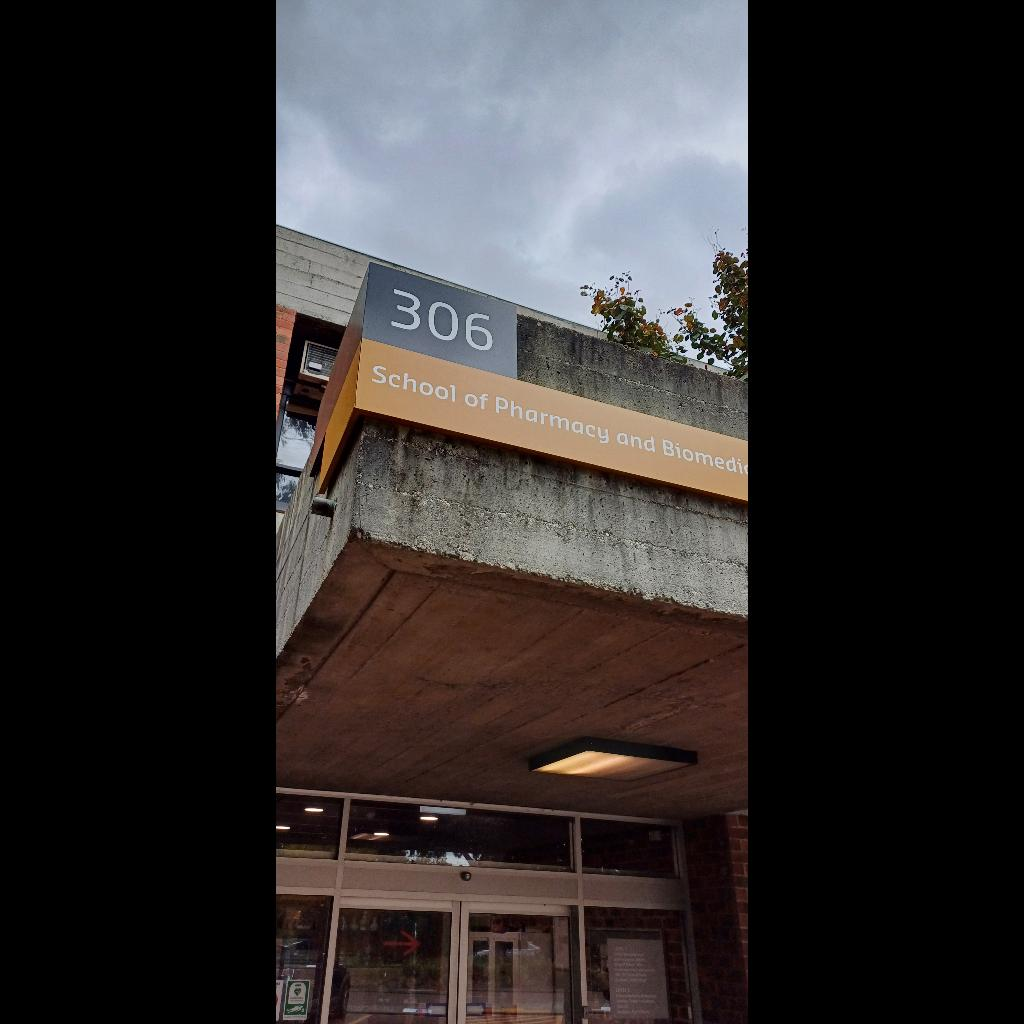BuildingCodes: (380, 278, 504, 362)
